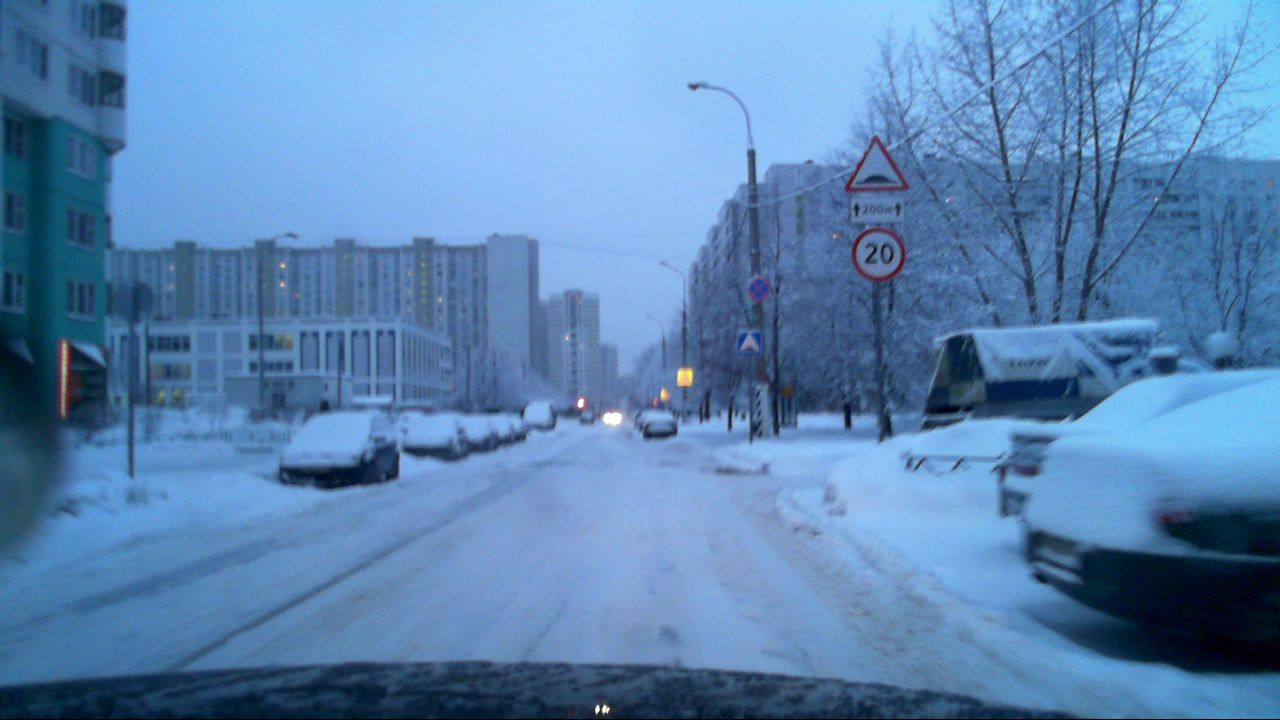No Parking: (745, 272, 774, 300)
